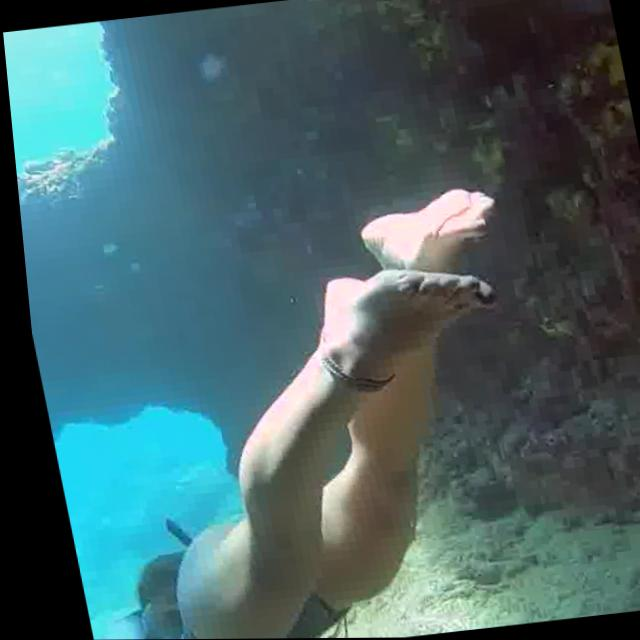human: (12, 151, 583, 640)
